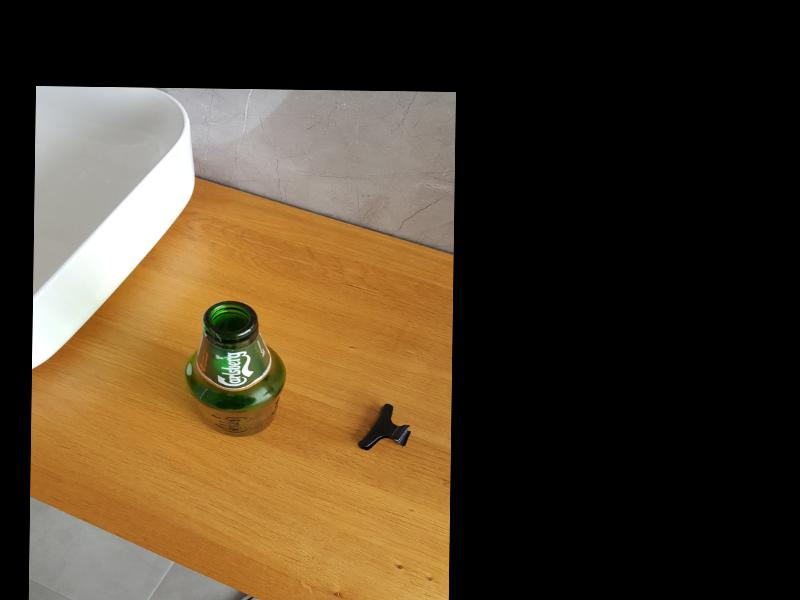Beer: (182, 301, 286, 437)
